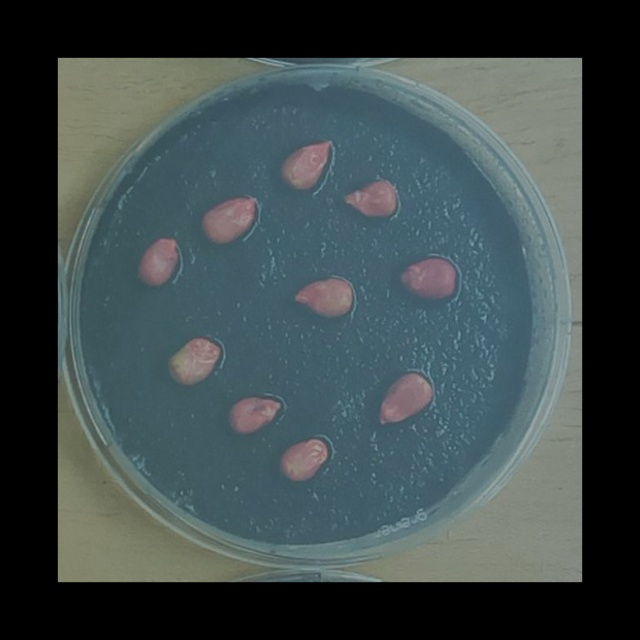Zea mays: (371, 366, 438, 434), (194, 188, 263, 251), (392, 251, 465, 308), (274, 131, 338, 196), (161, 331, 227, 392), (286, 273, 357, 325), (273, 431, 335, 489), (221, 390, 288, 442), (129, 233, 185, 294), (338, 174, 401, 225)
